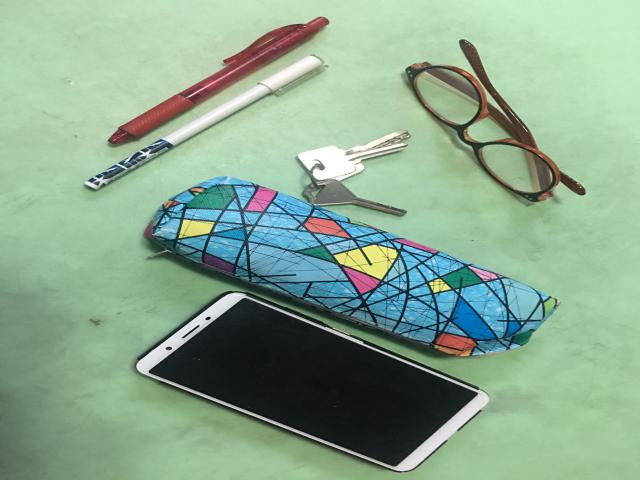Glasses: (407, 39, 585, 202)
Keys: (298, 129, 410, 216)
Mobile phone: (135, 292, 488, 472)
Pen: (86, 57, 328, 191), (108, 17, 328, 144)
